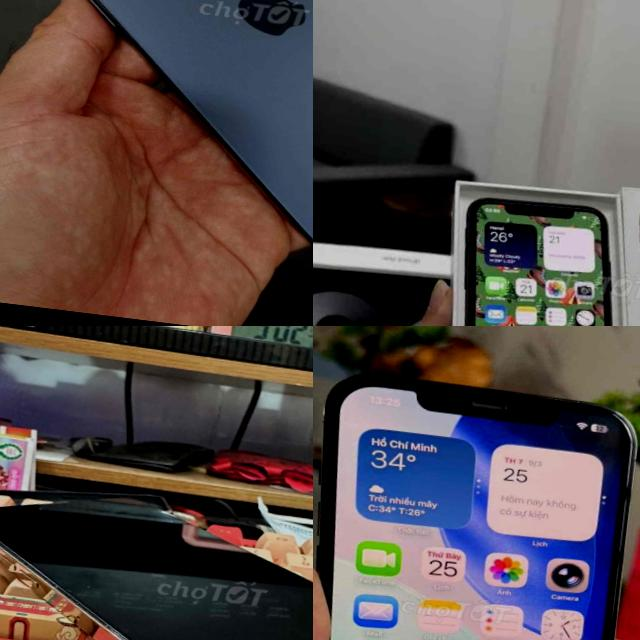gen_12_13: (313, 352, 640, 640), (0, 475, 313, 640)
gen_15: (0, 0, 313, 281)
gen_x_xs: (410, 160, 640, 326)
